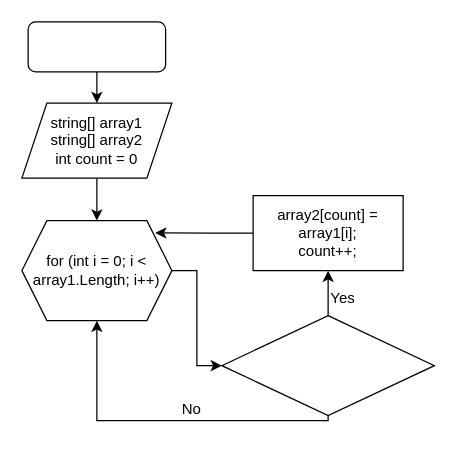
Some shapes in this 456 by 453 pixel diagram are drawn without their labels. The shapes that lost their labels are listed below. From the top down, each one's centre as x and y in pixels, then its label:
the point at 96,46: ArrayW
the point at 327,365: if(array1[i].Length <= 3)
